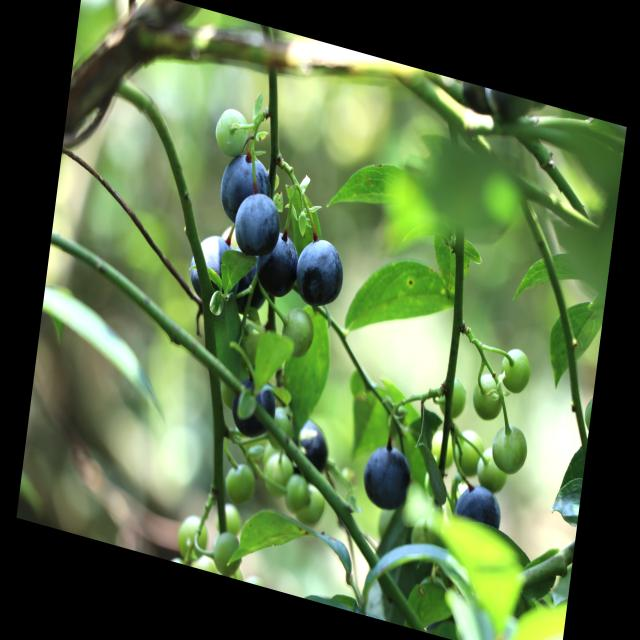blueberry: (291, 231, 348, 316), (216, 146, 274, 228), (185, 226, 244, 306), (358, 438, 415, 518), (228, 187, 284, 267), (250, 223, 301, 306), (227, 369, 280, 442), (454, 478, 506, 535), (295, 414, 334, 474)
blueberry-unripe: (210, 100, 254, 162), (490, 417, 530, 479), (280, 302, 318, 362), (470, 368, 506, 424), (293, 478, 331, 531), (173, 509, 210, 563), (474, 445, 512, 497), (498, 342, 534, 396), (222, 458, 257, 511), (260, 448, 294, 502), (209, 534, 247, 580), (453, 427, 487, 478), (436, 374, 469, 422), (282, 470, 310, 518)
